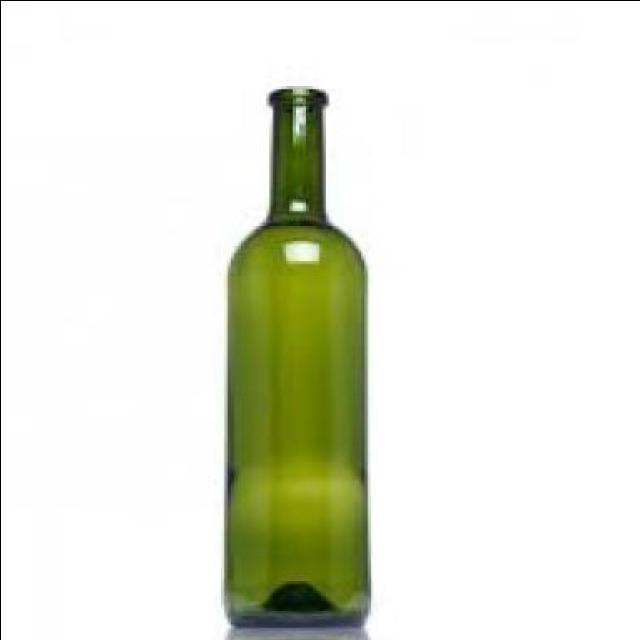kaca: (220, 85, 367, 633)
